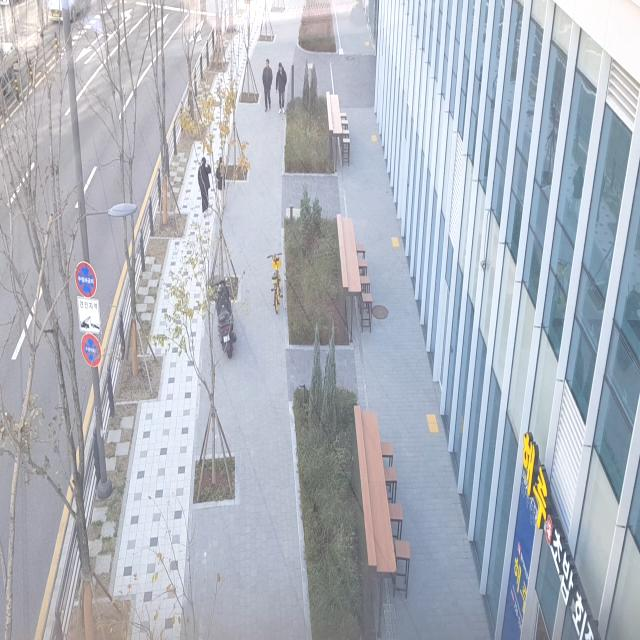Car: (44, 0, 102, 31)
